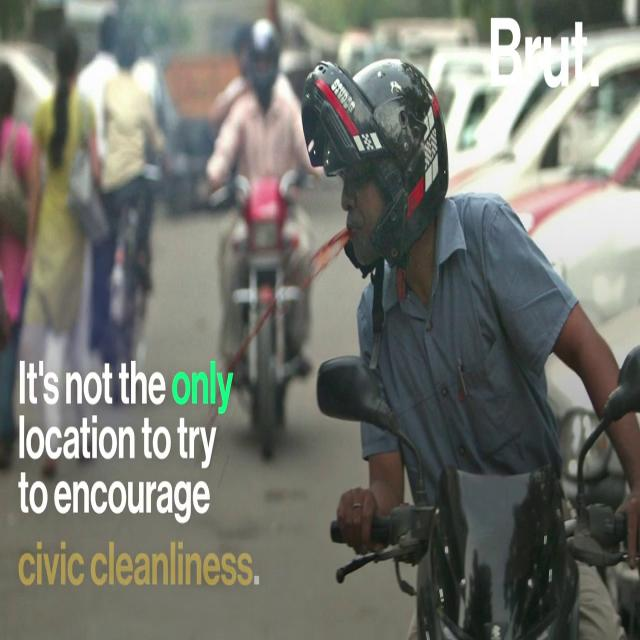spit: (230, 163, 380, 420)
